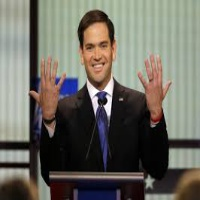ring: (142, 58, 154, 82), (51, 58, 60, 87)
